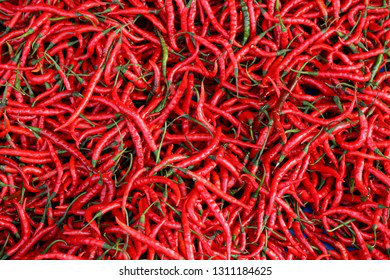Cabai: (78, 30, 307, 220)
